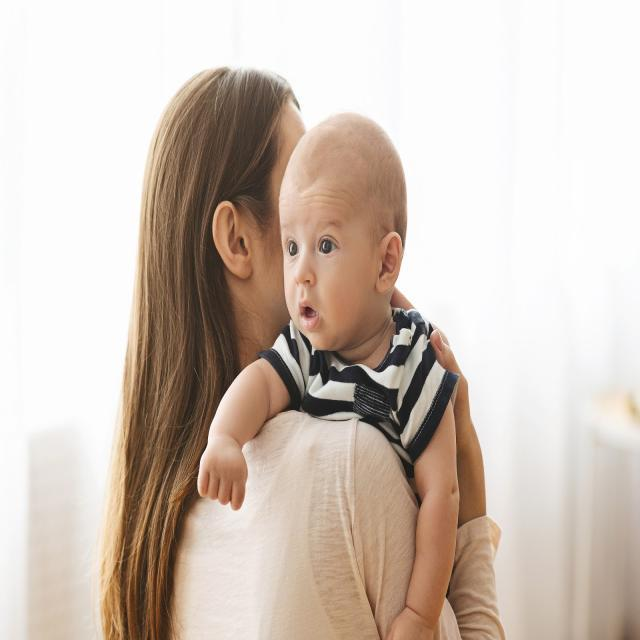non-dog: (96, 58, 510, 639), (195, 112, 460, 631)
